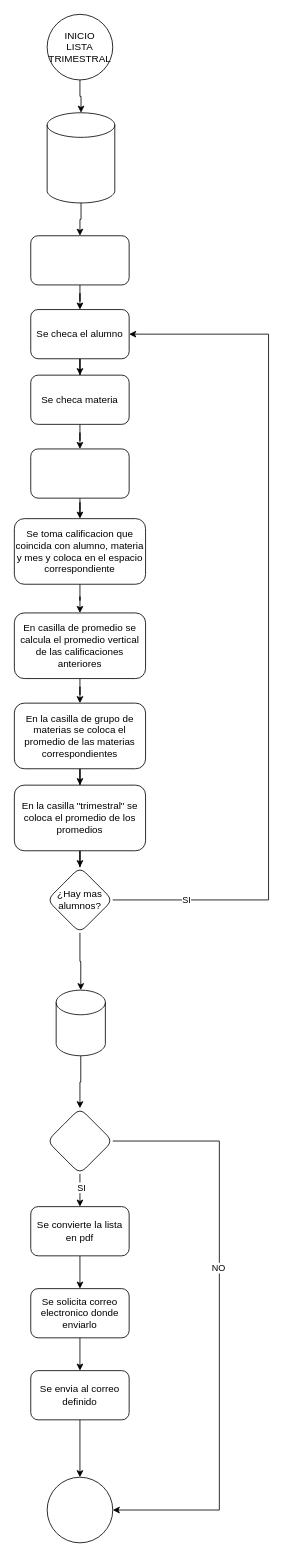
The diagram is 289 pixels wide and 1557 high, and some of its shapes have lost their labels. The centre of each missing label's shape, as x and y in pixels:
"Consultar alumnos del grupo seleccionado" belongs at (80,157).
"FIN" belongs at (79,1509).
"Mostrar lista" belongs at (79,260).
"Se checa mes" belongs at (79,473).
"Se guarda estado de la lista" belongs at (80,1022).
"¿Se presiona boton compartir?" belongs at (79,1140).
